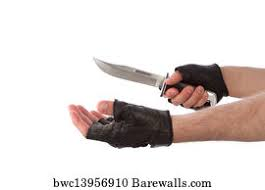knife: (90, 54, 222, 108)
